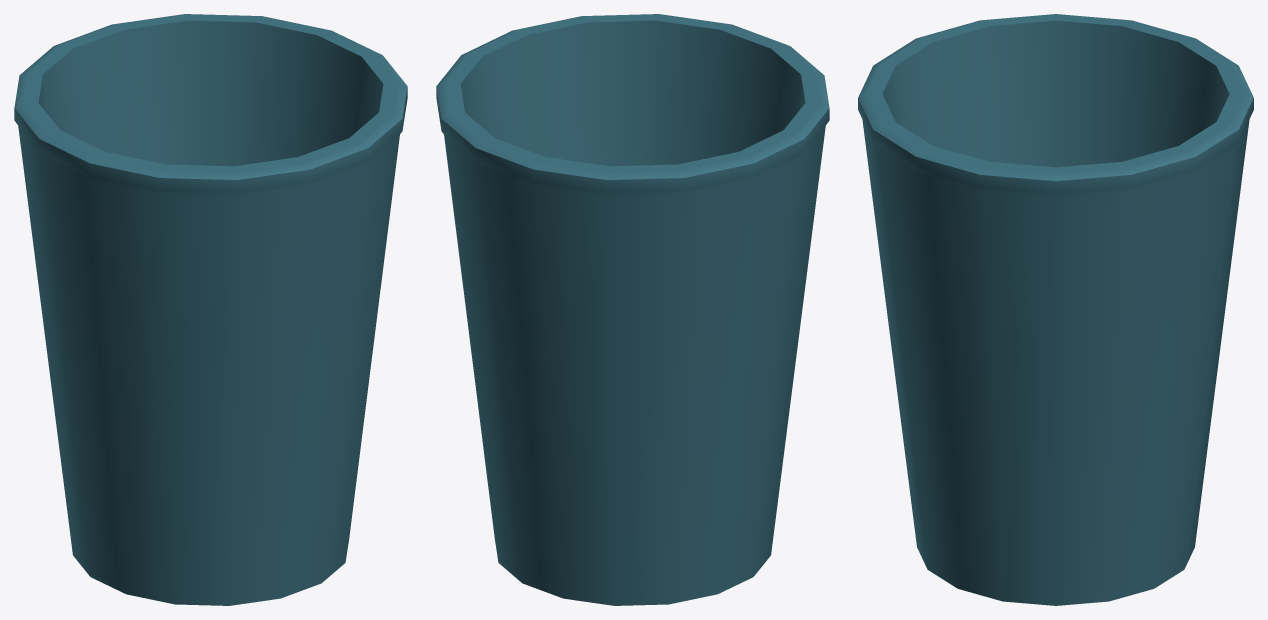
The model's file is SM_SmallTrashkit_Cup_001.fbx.
The picture shows the model from 3 angles, left to right: view 1: azimuth 30°, elevation 25°; view 2: azimuth 150°, elevation 25°; view 3: azimuth 270°, elevation 25°; orthographic projection.
Parts seen in each view (by area): view 1: SM_SmallTrashkit_Cup_001; view 2: SM_SmallTrashkit_Cup_001; view 3: SM_SmallTrashkit_Cup_001.
Boxes of the visible parts, x1,y1,x2,y2 form: SM_SmallTrashkit_Cup_001: (14,14,407,605); SM_SmallTrashkit_Cup_001: (436,14,829,605); SM_SmallTrashkit_Cup_001: (858,14,1253,605).
Bounding box in the file's own units: 9.68 × 12.23 × 9.68.
